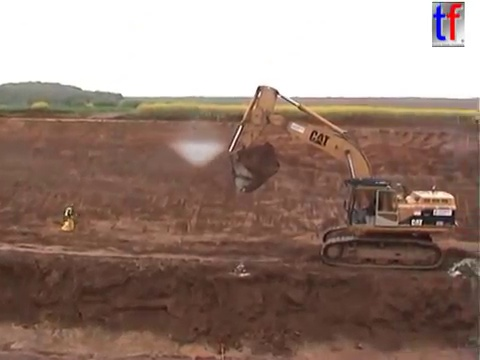excavator: (224, 82, 461, 273)
worker: (61, 202, 79, 233)
